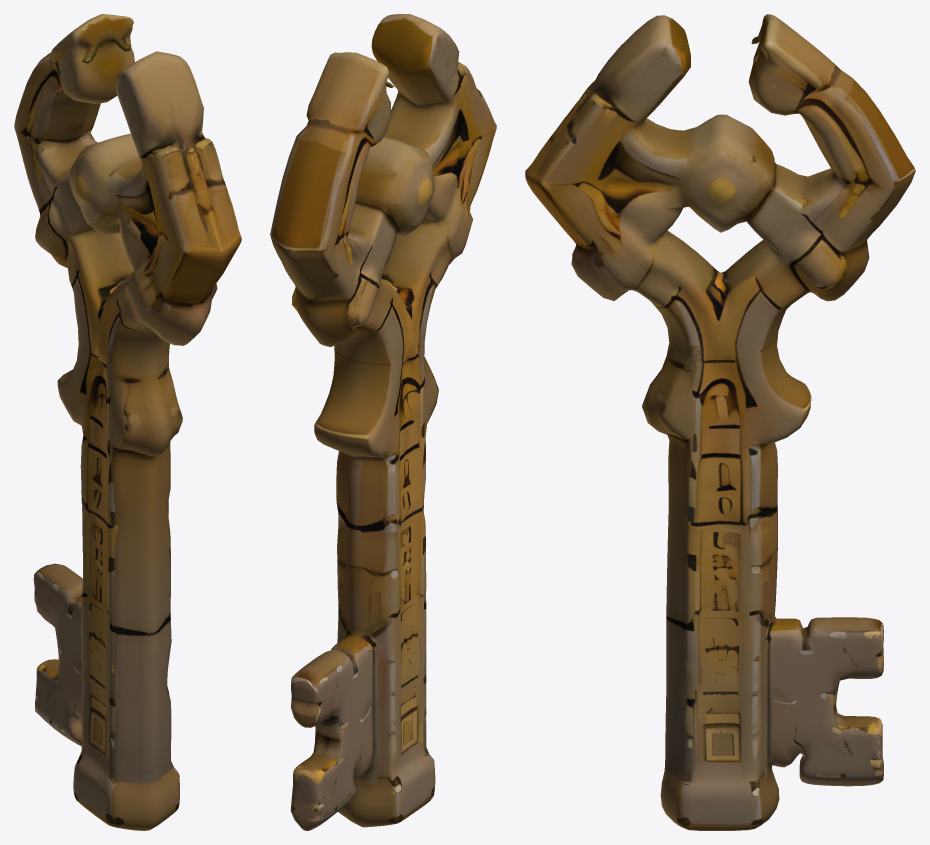
File: ornate+key+3d+model.obj
The picture shows the model from 3 angles, left to right: view 1: azimuth 30°, elevation 25°; view 2: azimuth 150°, elevation 25°; view 3: azimuth 270°, elevation 25°; orthographic projection. The views are drawn at different scales.
Visible parts, largest first — view 1: tripo_node_15a11b91; view 2: tripo_node_15a11b91; view 3: tripo_node_15a11b91.
Part boxes in pixels (box(x1,y1,x2,y2)): tripo_node_15a11b91: box(14, 14, 241, 830); tripo_node_15a11b91: box(270, 14, 496, 830); tripo_node_15a11b91: box(525, 14, 915, 830).
Size of the model in its own units: 12.93 by 99.92 by 43.76.
1 material, 1 textured.
